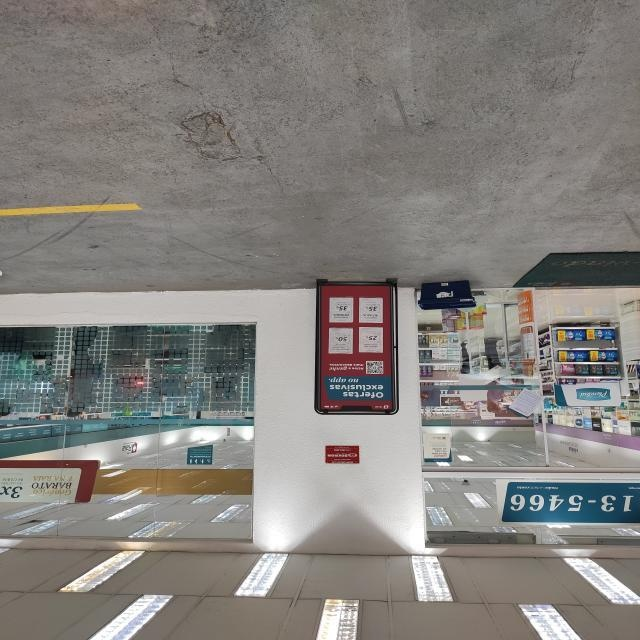qr-code: (367, 362, 382, 374)
